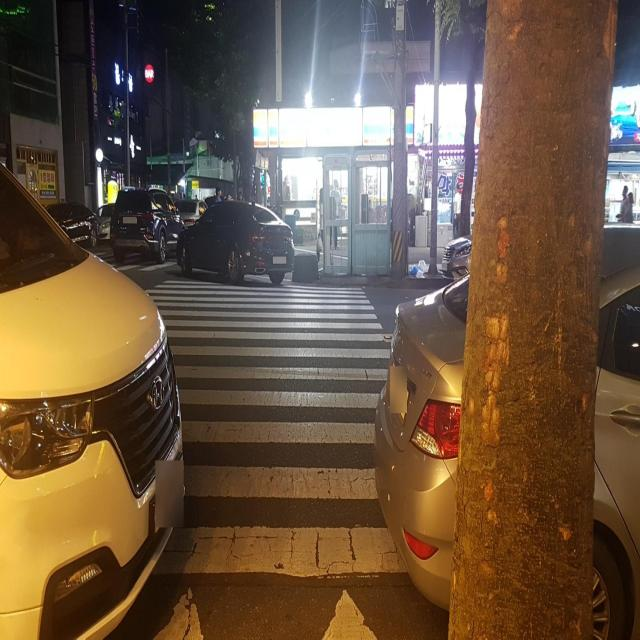횡단보도: (143, 277, 411, 640)
